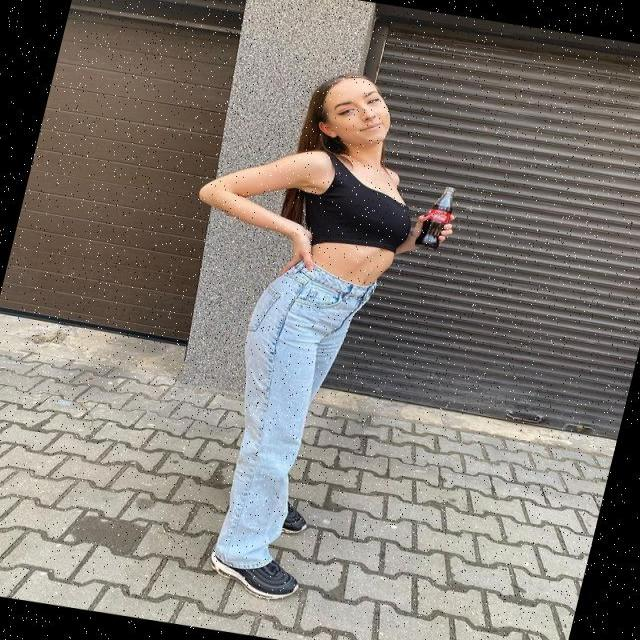coca-cola: (412, 180, 464, 254)
